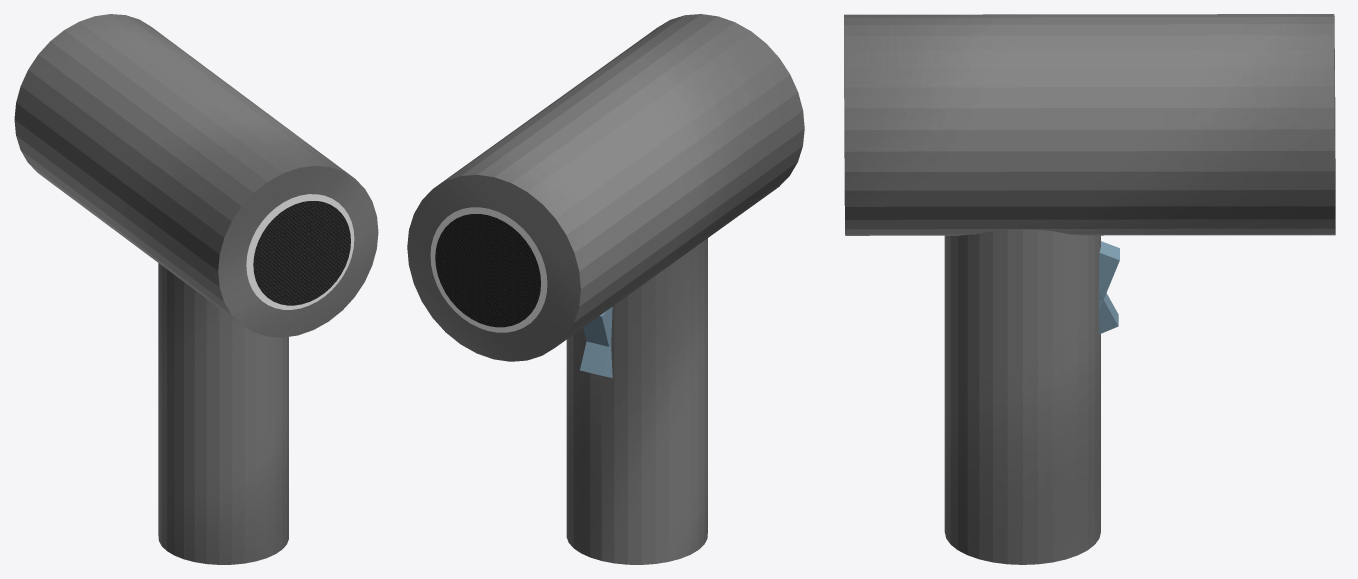
Rendered from blower_small_fix.fbx.
The picture shows the model from 3 angles, left to right: view 1: azimuth 30°, elevation 25°; view 2: azimuth 150°, elevation 25°; view 3: azimuth 270°, elevation 25°; orthographic projection. The views are drawn at different scales.
Parts seen in each view (by area): view 1: 柱体.002, 柱体, 圆环.003, 圆环.002; view 2: 柱体.002, 柱体, 圆环.001, 圆环, 立方体.001, 立方体; view 3: 柱体.002, 柱体, 立方体.
Boxes of the visible parts, x1,y1,x2,y2 form: 柱体.002: [14, 14, 378, 337]; 柱体: [158, 263, 288, 564]; 圆环.003: [253, 201, 350, 305]; 圆环.002: [246, 194, 354, 309]; 柱体.002: [407, 14, 804, 361]; 柱体: [566, 238, 707, 564]; 圆环.001: [435, 214, 540, 327]; 圆环: [430, 207, 547, 332]; 立方体.001: [580, 341, 612, 377]; 立方体: [583, 307, 612, 346]; 柱体.002: [844, 14, 1335, 235]; 柱体: [944, 229, 1100, 564]; 立方体: [1098, 241, 1119, 311].
Size of the model in its own units: 137 by 345 by 314.
